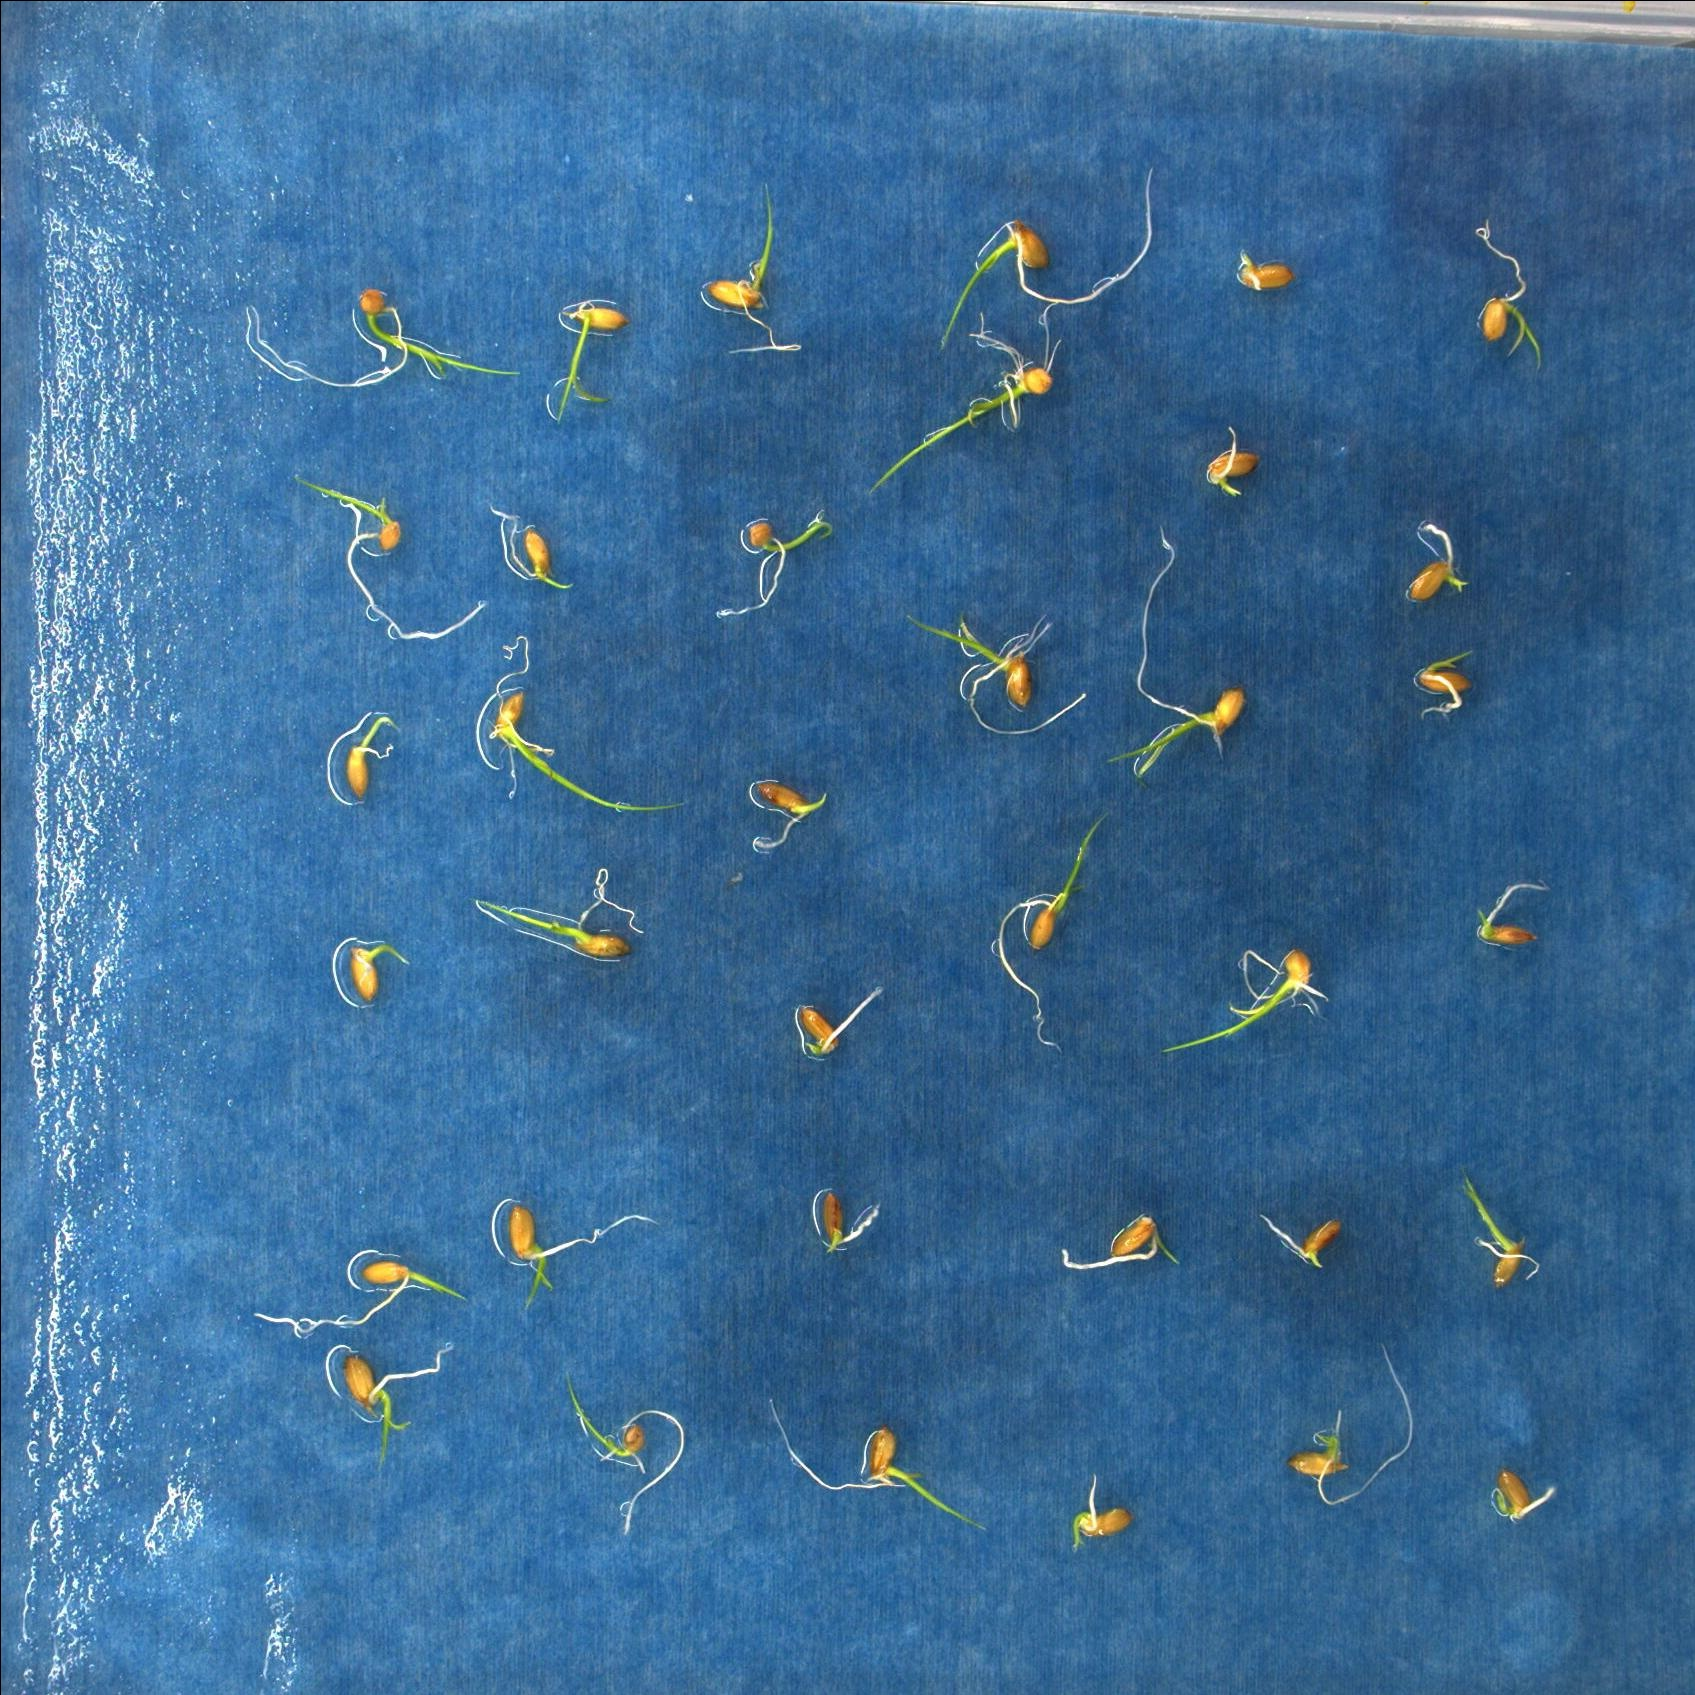not sprout: (793, 983, 888, 1059), (1403, 523, 1468, 605), (1476, 886, 1549, 951), (1260, 1211, 1338, 1271), (1232, 248, 1295, 293)
sprout: (868, 300, 1068, 500), (483, 633, 695, 816), (939, 168, 1153, 348), (1104, 523, 1246, 778), (293, 473, 487, 643), (767, 1395, 993, 1535), (245, 289, 523, 388), (997, 810, 1105, 1052), (903, 615, 1087, 737), (1291, 1340, 1411, 1507), (563, 1374, 683, 1537), (1161, 947, 1332, 1055), (705, 180, 806, 357), (469, 868, 643, 967), (255, 1257, 473, 1333), (509, 1201, 661, 1309), (345, 1346, 453, 1475), (711, 517, 832, 618), (1475, 217, 1544, 374), (546, 296, 626, 427), (1464, 1169, 1538, 1288), (484, 501, 574, 588), (1059, 1211, 1181, 1271), (747, 779, 829, 852), (1066, 1473, 1135, 1558), (806, 1187, 883, 1253), (345, 716, 402, 798), (1408, 647, 1471, 720), (1203, 422, 1259, 498), (348, 938, 407, 1004), (1495, 1468, 1557, 1523)
